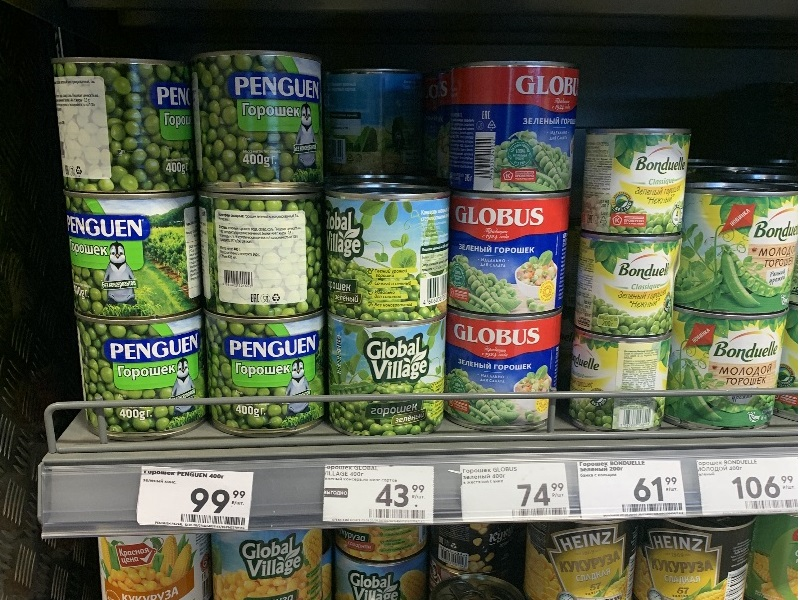peas: (185, 47, 340, 201), (52, 51, 207, 200), (436, 55, 586, 199), (55, 186, 209, 326), (69, 307, 219, 442), (669, 183, 800, 316), (571, 225, 685, 346), (578, 127, 698, 240)
